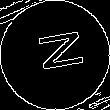N_W: (26, 31, 84, 79)
